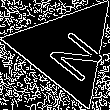N_NW: (32, 17, 101, 81)
